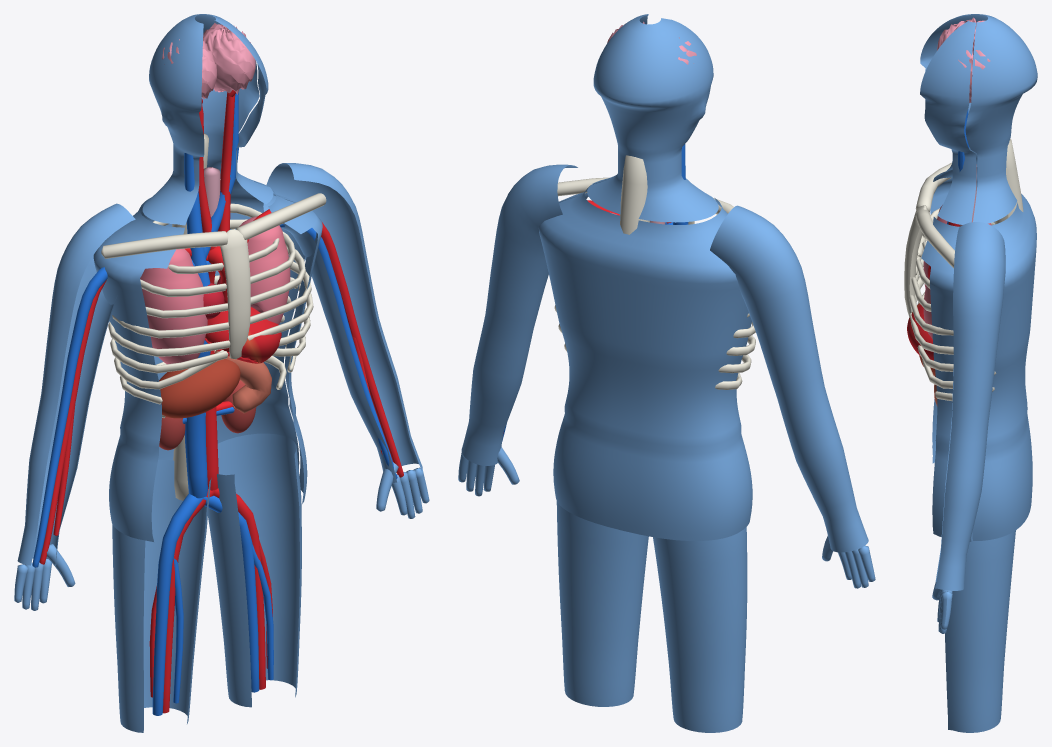
The model's file is 01_human_circulatory_system.glb.
3 renders of one model, left to right at view 1: azimuth 30°, elevation 25°; view 2: azimuth 150°, elevation 25°; view 3: azimuth 270°, elevation 25°, orthographic. The views are drawn at different scales.
Parts seen in each view (by area): view 1: Anatomical Human Body (Quad Mesh Contour), Thoracic Ribcage, Sternum & Spine, Vena Cavae & Systemic Venous Tree, Aortic Arch & Systemic Arterial Tree, Left & Right Lungs & Tracheobronchial Tree, Liver, Stomach & Kidneys (Abdominal Viscera), Cerebral Brain & Cerebellum, Heart (Central 4-Chamber Pump); view 2: Anatomical Human Body (Quad Mesh Contour), Thoracic Ribcage, Sternum & Spine; view 3: Anatomical Human Body (Quad Mesh Contour), Thoracic Ribcage, Sternum & Spine, Cerebral Brain & Cerebellum, Heart (Central 4-Chamber Pump), Left & Right Lungs & Tracheobronchial Tree.
Boxes of the visible parts, x1=… form: Anatomical Human Body (Quad Mesh Contour): x1=14, y1=14, x2=429, y2=732; Thoracic Ribcage, Sternum & Spine: x1=101, y1=133, x2=326, y2=500; Vena Cavae & Systemic Venous Tree: x1=32, y1=92, x2=397, y2=715; Aortic Arch & Systemic Arterial Tree: x1=39, y1=87, x2=403, y2=713; Left & Right Lungs & Tracheobronchial Tree: x1=140, y1=167, x2=290, y2=364; Liver, Stomach & Kidneys (Abdominal Viscera): x1=159, y1=350, x2=271, y2=450; Cerebral Brain & Cerebellum: x1=162, y1=23, x2=255, y2=98; Heart (Central 4-Chamber Pump): x1=203, y1=277, x2=281, y2=363; Anatomical Human Body (Quad Mesh Contour): x1=458, y1=14, x2=875, y2=732; Thoracic Ribcage, Sternum & Spine: x1=554, y1=155, x2=755, y2=389; Anatomical Human Body (Quad Mesh Contour): x1=920, y1=14, x2=1037, y2=732; Thoracic Ribcage, Sternum & Spine: x1=904, y1=139, x2=1023, y2=401; Cerebral Brain & Cerebellum: x1=937, y1=17, x2=990, y2=102; Heart (Central 4-Chamber Pump): x1=907, y1=268, x2=933, y2=360; Left & Right Lungs & Tracheobronchial Tree: x1=923, y1=164, x2=991, y2=339.
Size of the model in its own units: 214 by 340 by 60.83.
